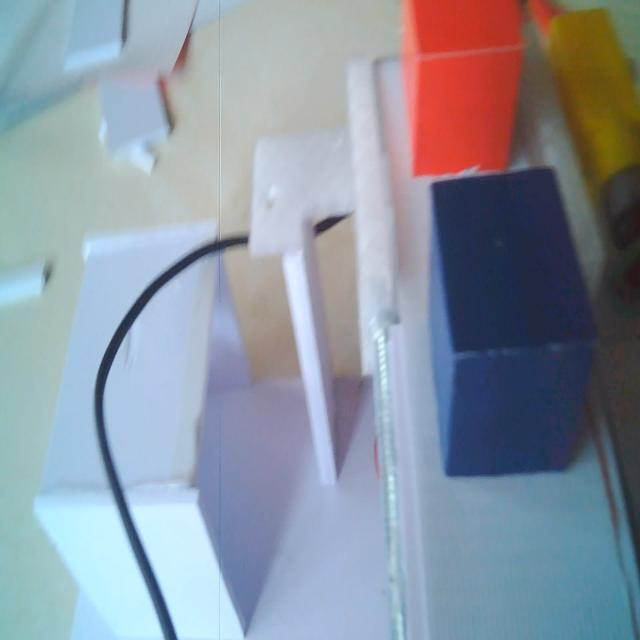blue: (426, 166, 599, 487)
red: (397, 0, 525, 178)
